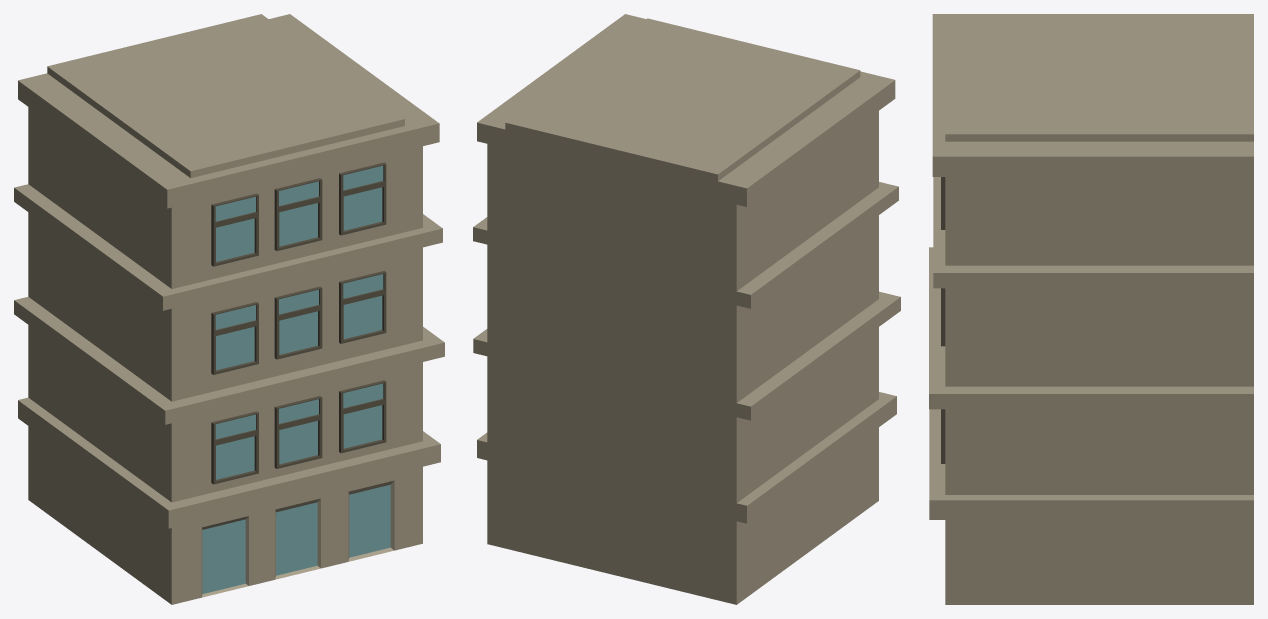
Rendered from edificio bueno3.fbx.
3 views of the same model, side by side, from view 1: azimuth 30°, elevation 25°; view 2: azimuth 150°, elevation 25°; view 3: azimuth 270°, elevation 25° (orthographic). The views are drawn at different scales.
Parts seen in each view (by area): view 1: polySurface23; view 2: polySurface23; view 3: polySurface23.
Part boxes in pixels (x1,y1,x2,y2): polySurface23: [14, 14, 444, 604]; polySurface23: [473, 14, 900, 604]; polySurface23: [929, 14, 1253, 604].
Bounding box in the file's own units: 1480 × 2169 × 1385.
